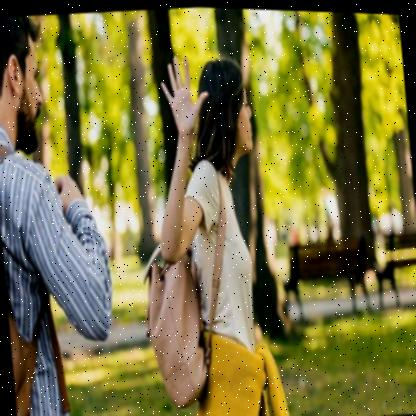person: (126, 44, 305, 416), (0, 9, 126, 416)
